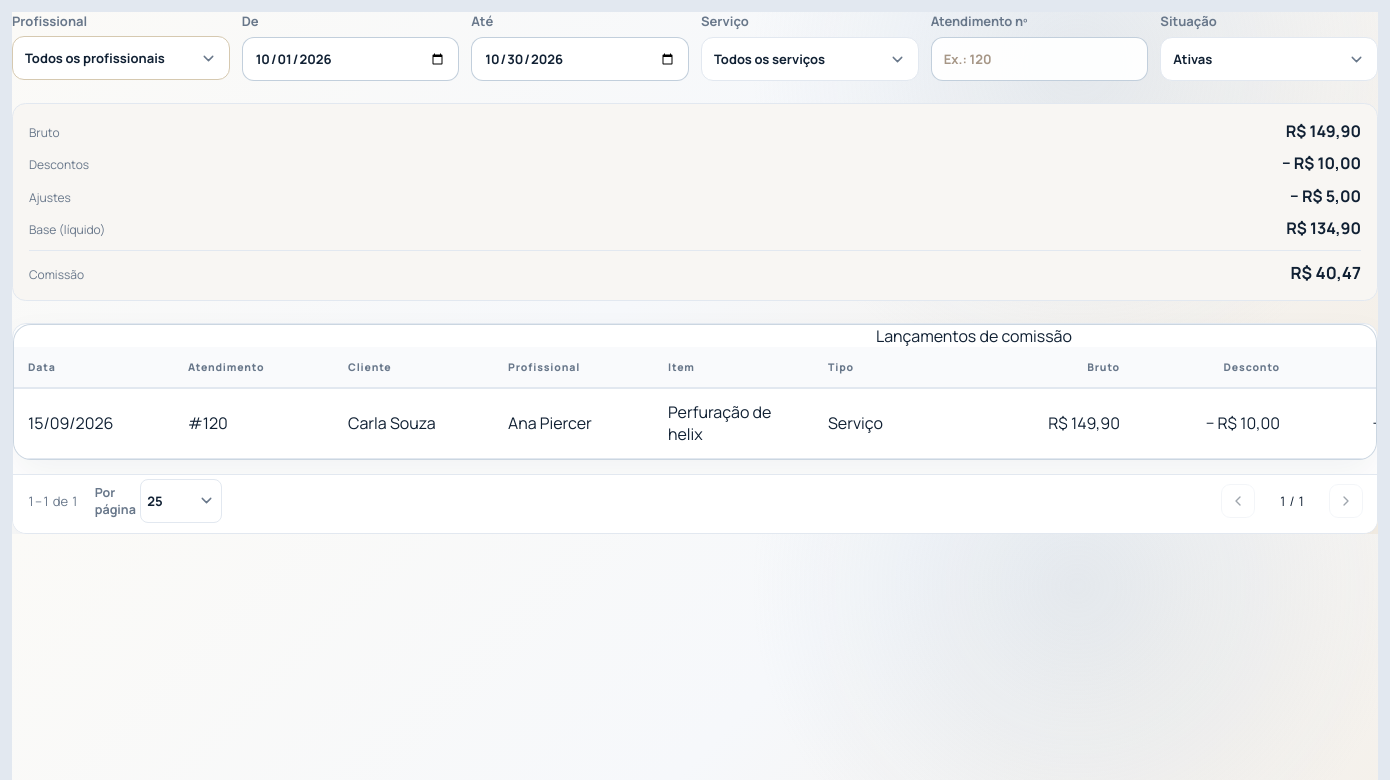
Scenario: extrato de comissões › explica o que os totais somam quando a situação não é só ativas
Check: the text "Perfuração de helix" is shown, box [668,401,771,445]
Check: the text "Os totais somam só os lançamentos ativos" is not shown
What coordinates should you click on to do the following:
click the dropdown named "Situação"
I would click on:
 (1269, 59)
Its box is [1160,37,1378,81].
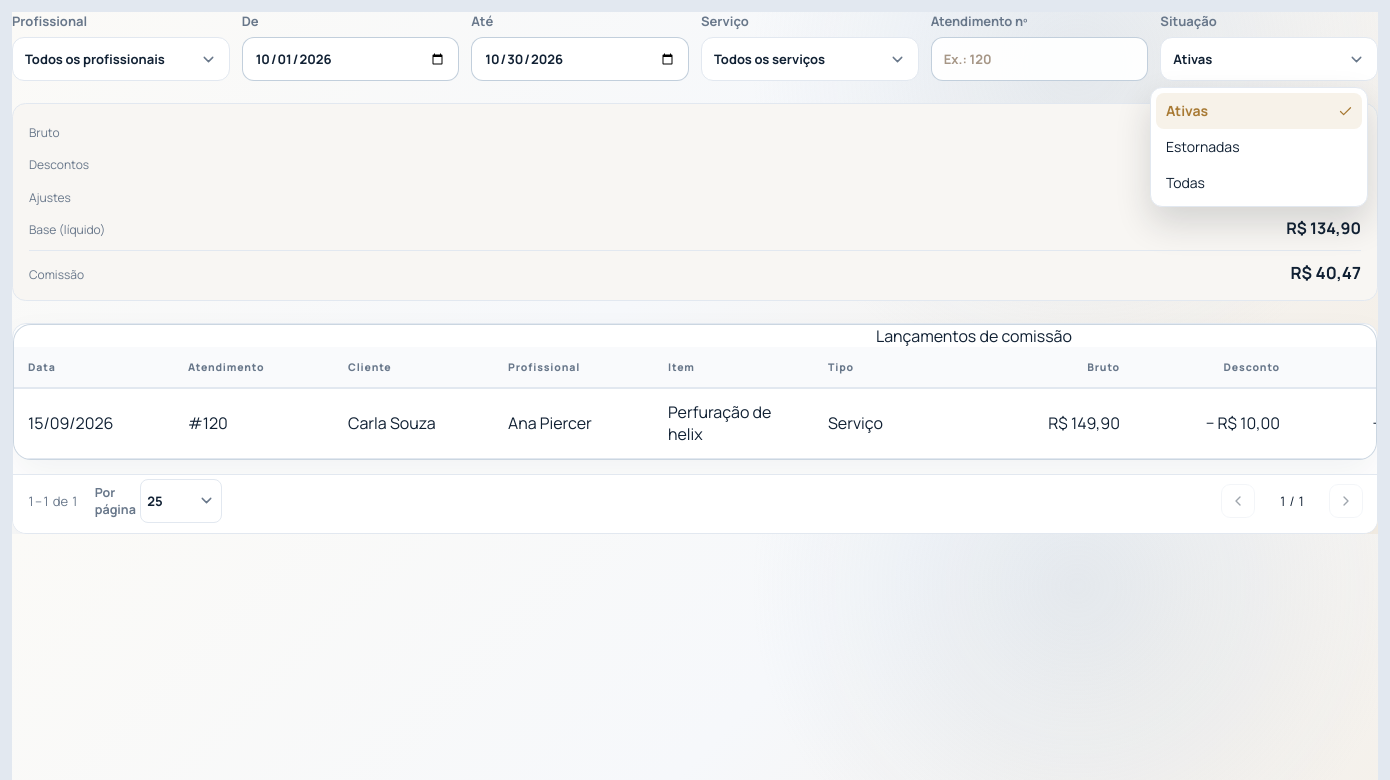
What coordinates should you click on to do the following:
click the option "Todas"
I would click on:
 (1185, 183)
Its box is [1166,173,1205,192].
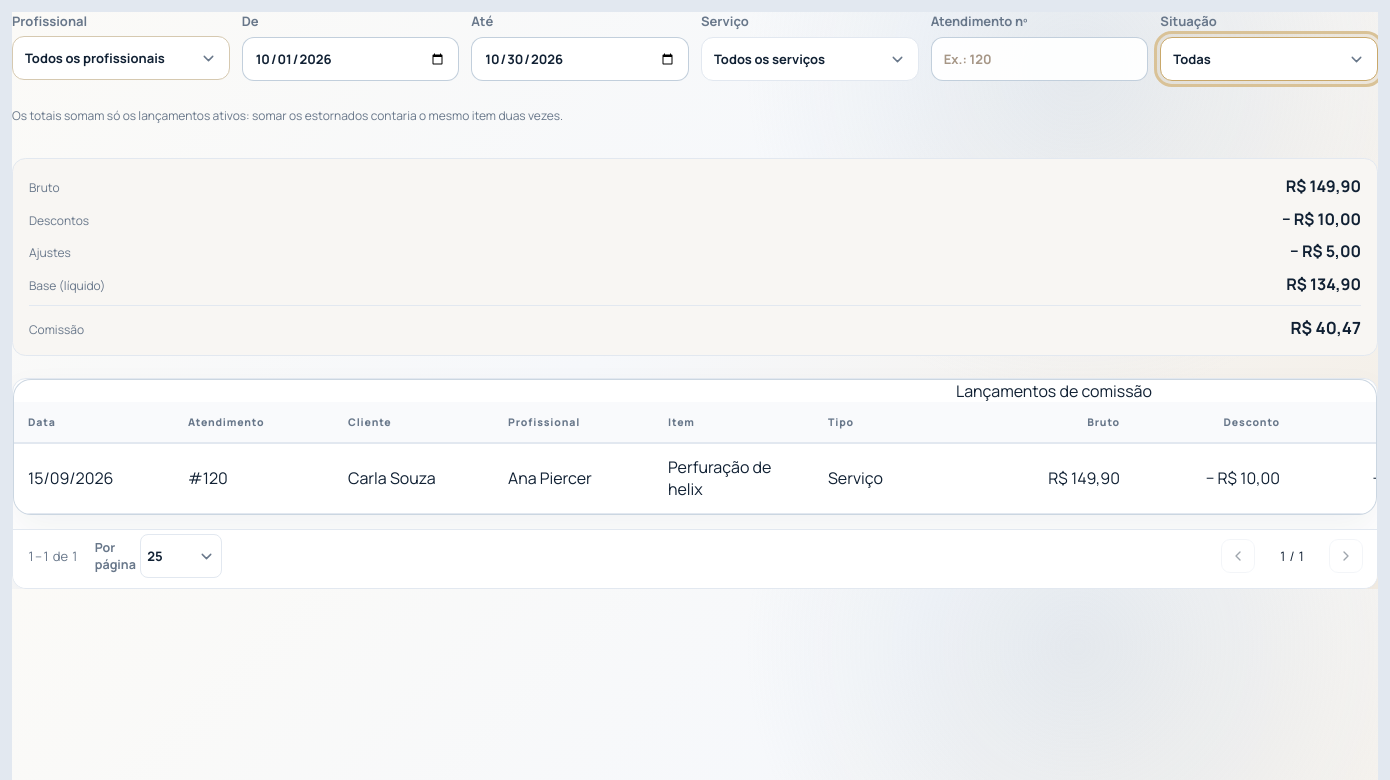
Check: the text "Os totais somam só os lançamentos ativos" is shown, box [12,107,563,124]
